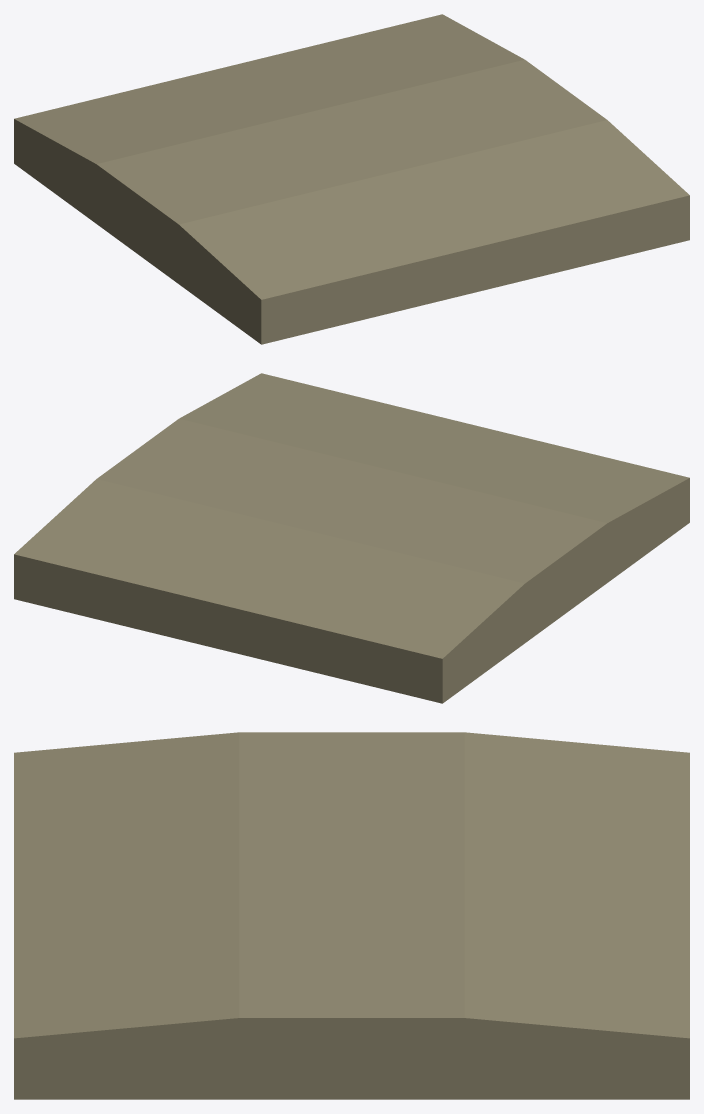
File: victorian_roof_flat_1.fbx
The picture shows the model from 3 angles, top to bottom: view 1: azimuth 30°, elevation 25°; view 2: azimuth 150°, elevation 25°; view 3: azimuth 270°, elevation 25°; orthographic projection. The views are drawn at different scales.
Visible parts, largest first — view 1: Cube.258; view 2: Cube.258; view 3: Cube.258.
Part boxes in pixels (<box>): Cube.258: <box>14,14,689,344</box>; Cube.258: <box>14,373,689,703</box>; Cube.258: <box>14,732,689,1099</box>.
Size of the model in its own units: 300 by 40 by 300.
